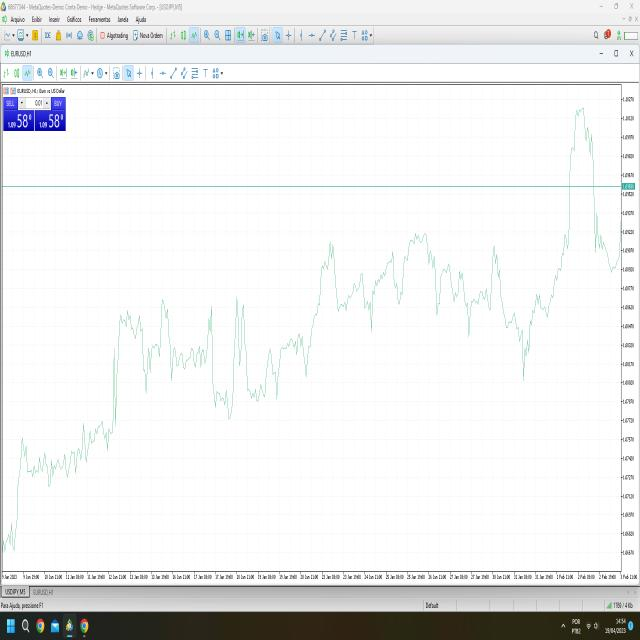bandeira_alta: (11, 435, 65, 554), (109, 282, 142, 438)
bandeira_baixa: (207, 300, 229, 422)
oco_inv: (495, 258, 560, 395)
